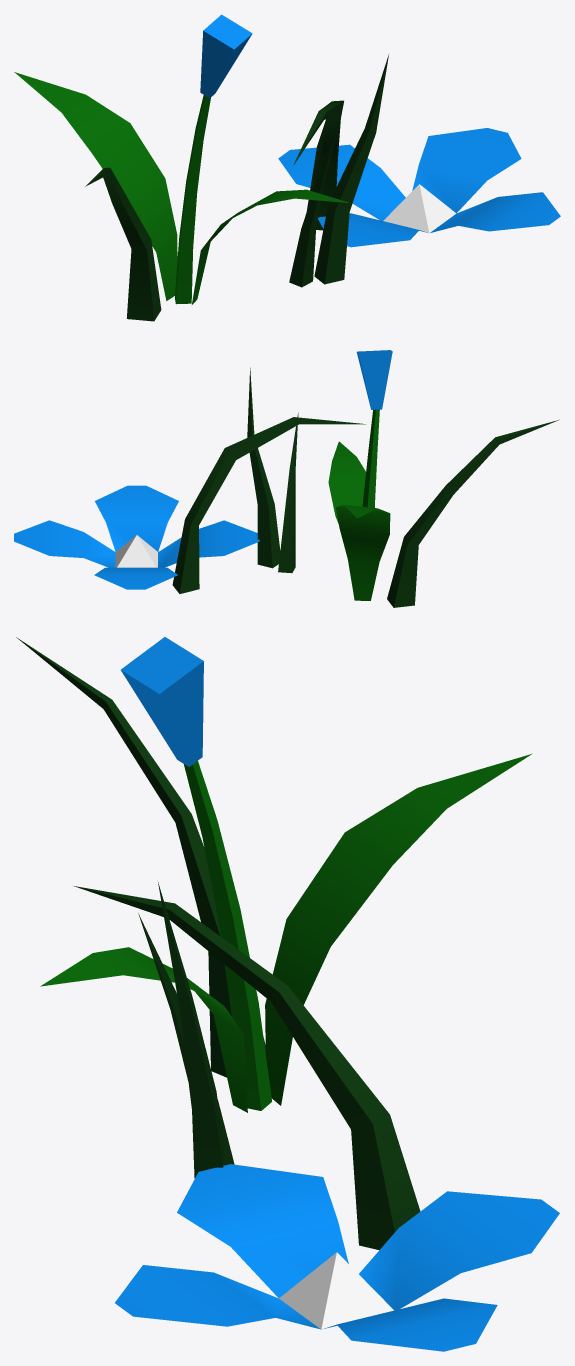
Rendered from Mix27.obj.
3 views of the same model, one above another, from view 1: azimuth 30°, elevation 25°; view 2: azimuth 150°, elevation 25°; view 3: azimuth 270°, elevation 25° (orthographic). The views are drawn at different scales.
Parts seen in each view (by area): view 1: Mix_27; view 2: Mix_27; view 3: Mix_27.
Part boxes in pixels (box(x1,y1,x2,y2)): Mix_27: box(14, 14, 560, 321); Mix_27: box(14, 350, 559, 607); Mix_27: box(16, 637, 559, 1351).
Bounding box in the file's own units: 0.1079 × 0.054 × 0.0579.
